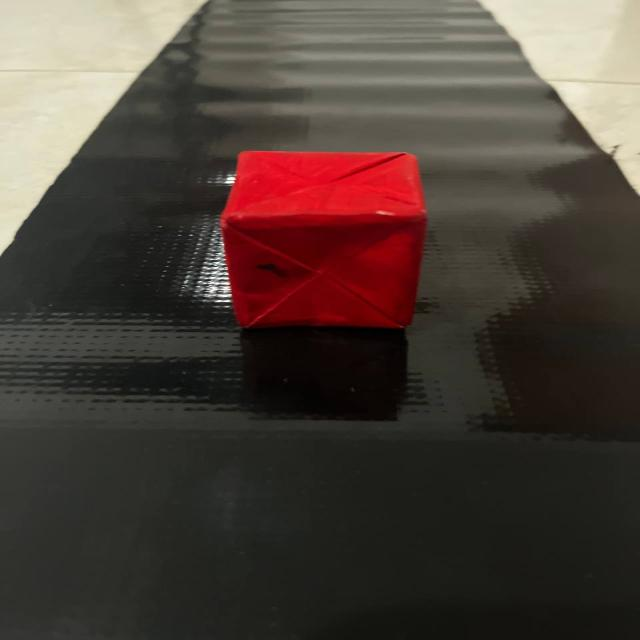Rojo: (208, 132, 452, 354)
